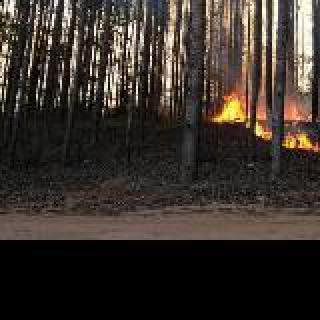fire: (206, 88, 320, 188)
